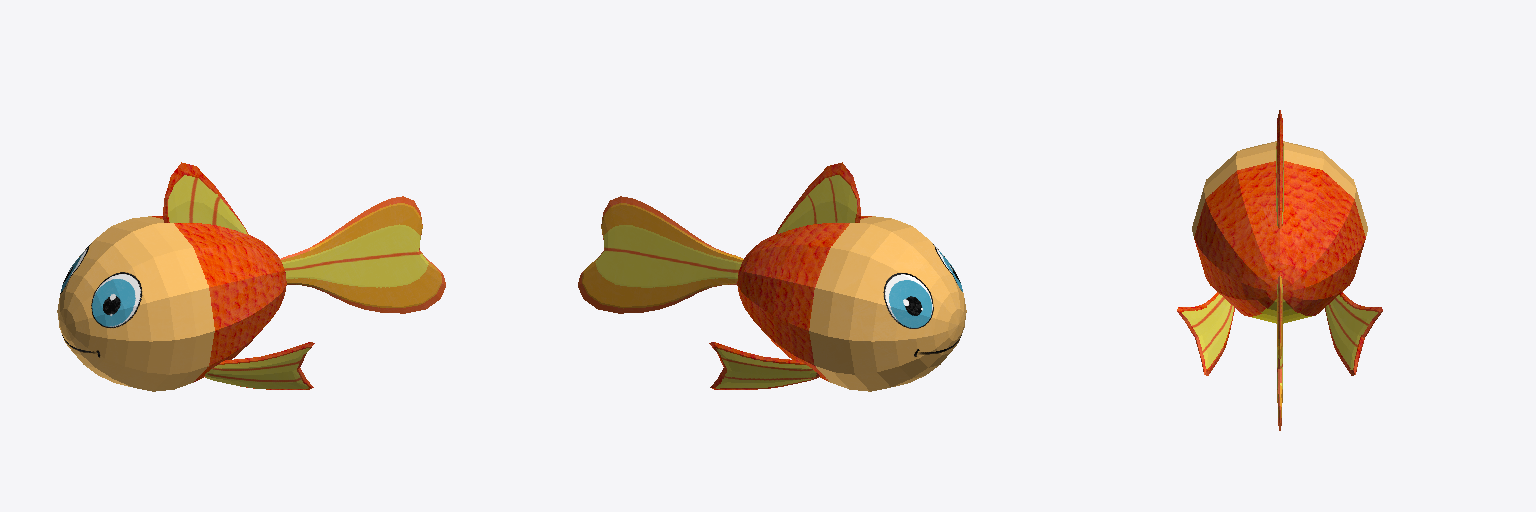
The picture shows the model from 3 angles: view 1: azimuth 30°, elevation 25°; view 2: azimuth 150°, elevation 25°; view 3: azimuth 270°, elevation 25°; orthographic projection.
Visible parts, largest first — view 1: goldfish_Plane.004; view 2: goldfish_Plane.004; view 3: goldfish_Plane.004.
Boxes of the visible parts, x1,y1,x2,y2 form: goldfish_Plane.004: [57, 162, 445, 391]; goldfish_Plane.004: [578, 162, 966, 391]; goldfish_Plane.004: [1177, 110, 1382, 430].
Bounding box in the file's own units: 1.12 × 0.6314 × 0.5267.
1 materials, 1 textured.